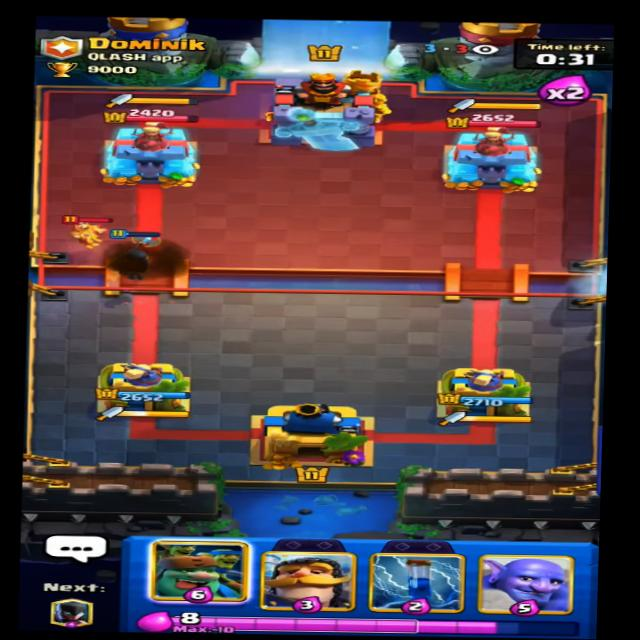wizard: (61, 211, 122, 250)
